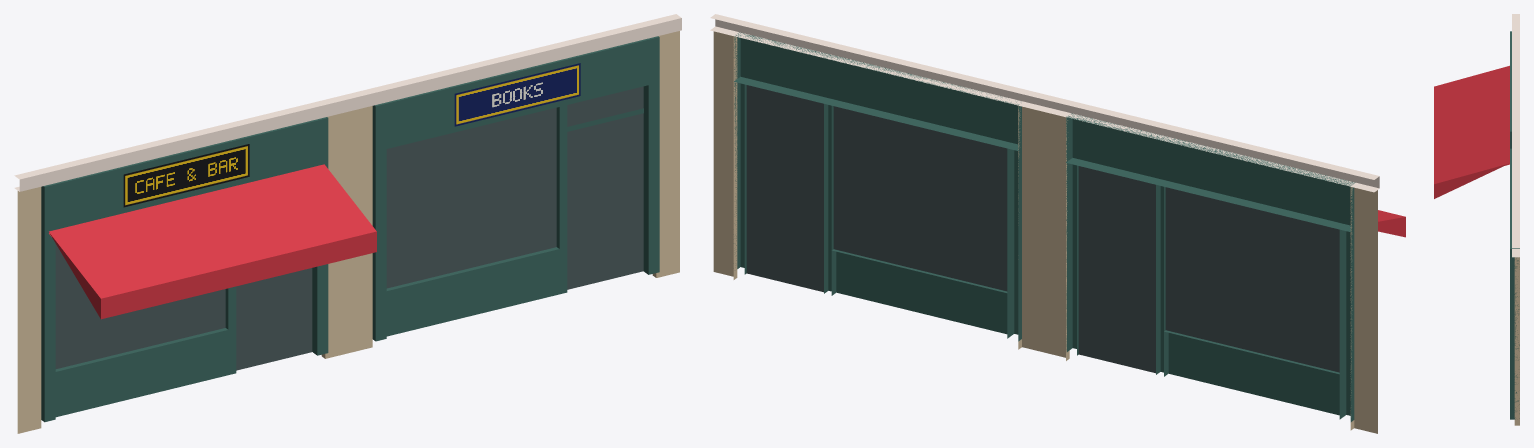
The picture shows the model from 3 angles, left to right: view 1: azimuth 30°, elevation 25°; view 2: azimuth 150°, elevation 25°; view 3: azimuth 270°, elevation 25°; orthographic projection. The views are drawn at different scales.
Visible parts, largest first — view 1: a2006/500/base-w2; view 2: a2006/500/base-w2; view 3: a2006/500/base-w2.
Boxes of the visible parts, <box> form: a2006/500/base-w2: <box>14,14,681,433</box>; a2006/500/base-w2: <box>710,14,1405,433</box>; a2006/500/base-w2: <box>1434,14,1519,425</box>.
Size of the model in its own units: 8.4 by 3.1 by 1.3.
